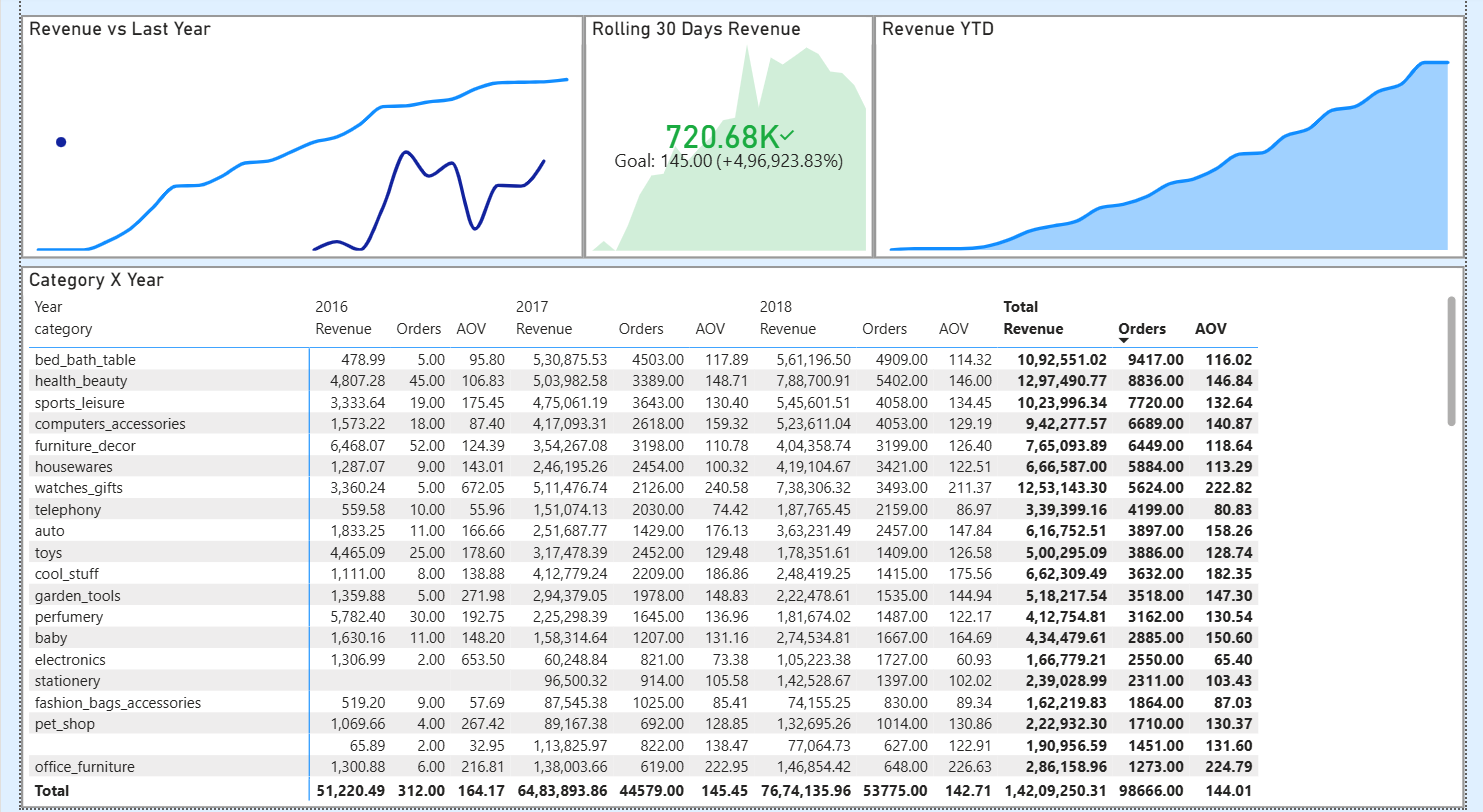

What the dashboard file says about the page in this screenshot:
{"tool":"powerbi","page":{"name":"Sales Trends","canvas":[1280,720],"ordinal":1},"visuals":[{"type":"lineChart","title":"Revenue vs Last Year","fields":{"Category":["DimDate.Year-Month"],"Y":["public bi_fact_sales.Revenue","public bi_fact_sales.Revenue LY"]},"box":[0,16.8,499.2,216.4],"z":0},{"type":"kpi","title":"Rolling 30 Days Revenue","fields":{"TrendLine":["DimDate.Year-Month"],"Goal":["public bi_fact_sales.Revenue"],"Indicator":["public bi_fact_sales.Rolling 30D Revenue"]},"box":[499.2,16.8,257.1,216.4],"z":1000},{"type":"areaChart","title":"Revenue YTD","fields":{"Category":["DimDate.Year-Month"],"Y":["public bi_fact_sales.Revenue YTD"]},"box":[756.4,16.8,524,216.4],"z":2000},{"type":"pivotTable","title":"Category X Year","fields":{"Values":["public bi_fact_sales.Revenue","public bi_fact_sales.Orders","public bi_fact_sales.AOV"],"Rows":["public bi_fact_sales.category"],"Columns":["DimDate.Year"]},"box":[0,239.4,1280.4,480.6],"z":3000}]}

Visuals, with their boxes in screenshot pixels (x1, y1, x2, y2), scaled from the page's 1280x720 canvas onto the 1483x812 screenshot:
"Revenue vs Last Year" lineChart: [0, 19, 578, 263]
"Rolling 30 Days Revenue" kpi: [578, 19, 876, 263]
"Revenue YTD" areaChart: [876, 19, 1482, 263]
"Category X Year" pivotTable: [0, 270, 1482, 811]
